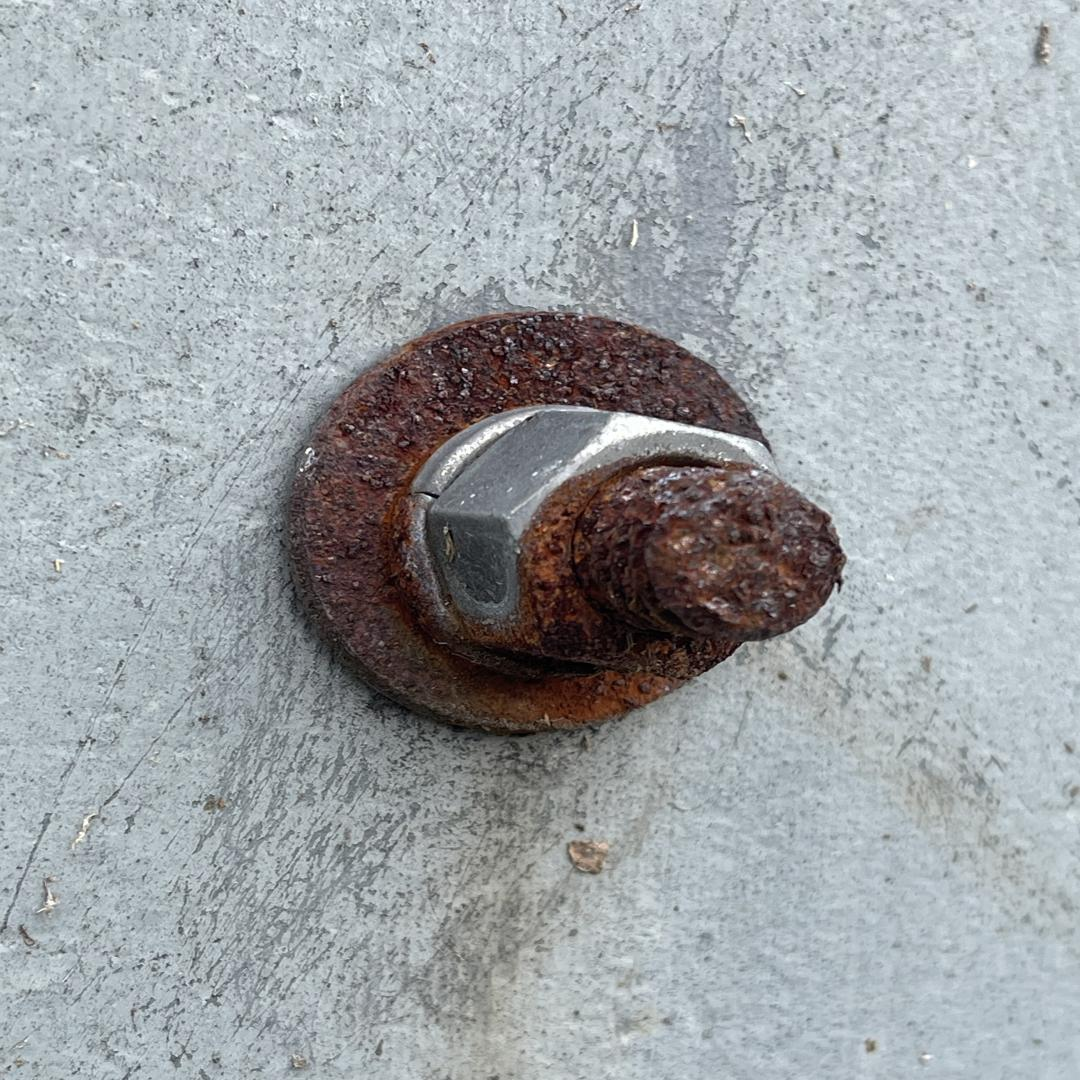Metal corroido: (280, 310, 846, 740)
Tornillo sin corrosion: (406, 405, 773, 636)
